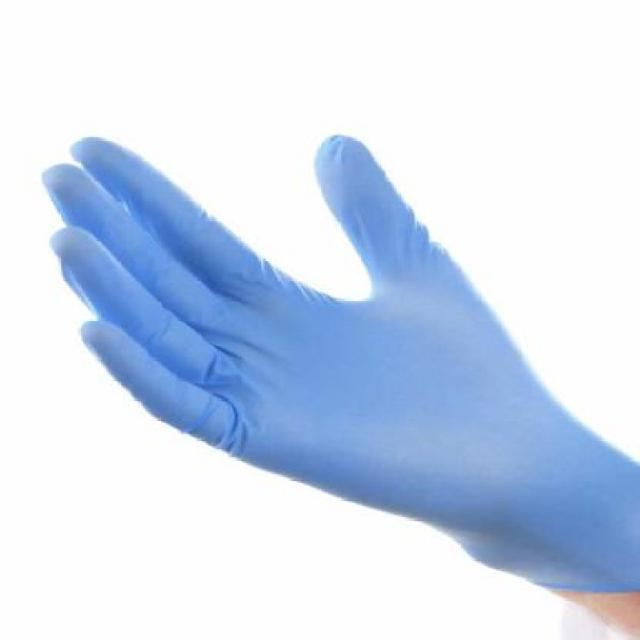gloved_hand: (34, 128, 640, 620)
